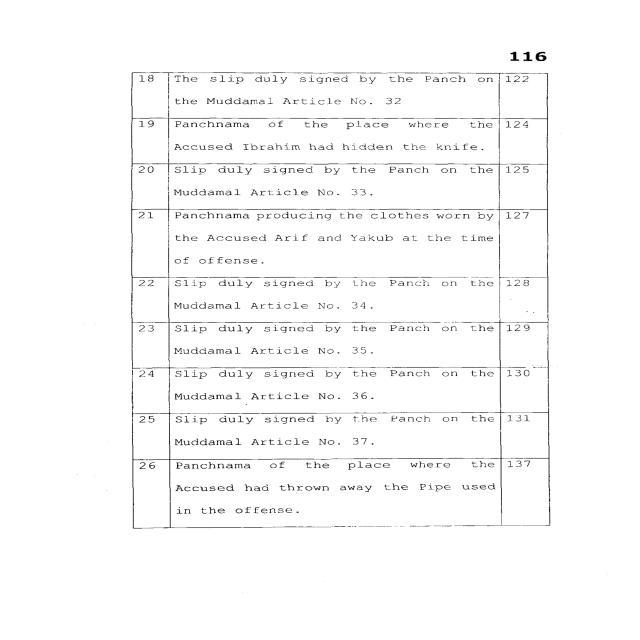page-number: (427, 1, 636, 69)
